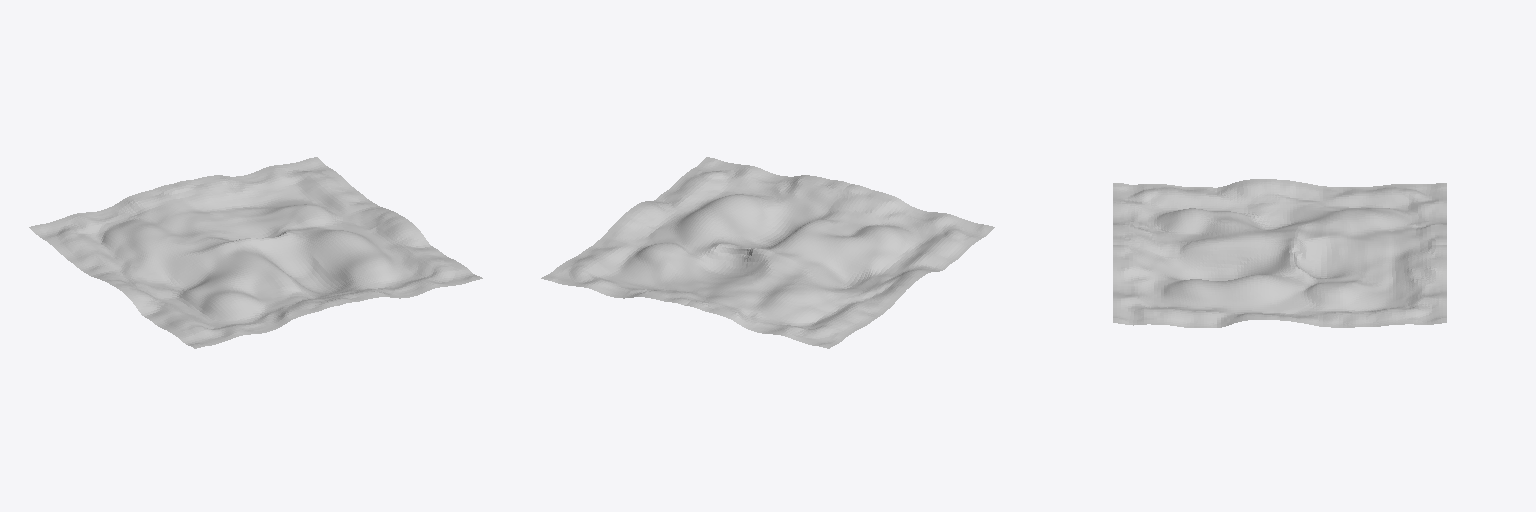
Rendered from ground_model3.obj.
The picture shows the model from 3 angles: view 1: azimuth 30°, elevation 25°; view 2: azimuth 150°, elevation 25°; view 3: azimuth 270°, elevation 25°; orthographic projection.
Parts seen in each view (by area): view 1: pPlane21; view 2: pPlane21; view 3: pPlane21.
Boxes of the visible parts, box(x1,y1,x2,y2) form: pPlane21: box(29, 157, 482, 348); pPlane21: box(541, 157, 994, 348); pPlane21: box(1113, 179, 1446, 327).
Bounding box in the file's own units: 248 × 22 × 248.